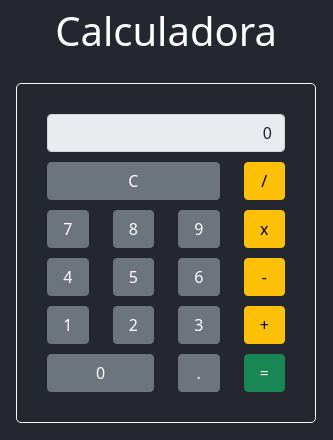
Test: Calculadora › Deve limpar o campo de números
The width and height of the screenshot is (333, 440).
Step 1. Click the button "2" → (133, 325), box [112,306,154,344]
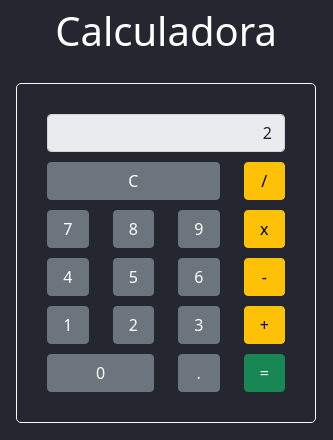
Step 2. Click the button "C" → (133, 181), box [47,162,220,200]
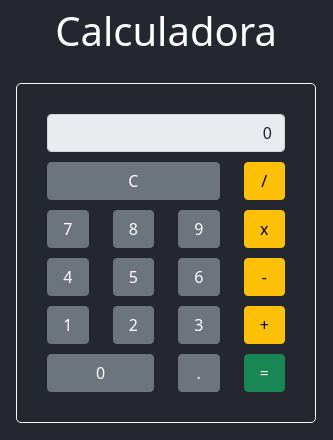
Result: the field with test id "txtNumeros" holds "0" at [47,114,285,152]
